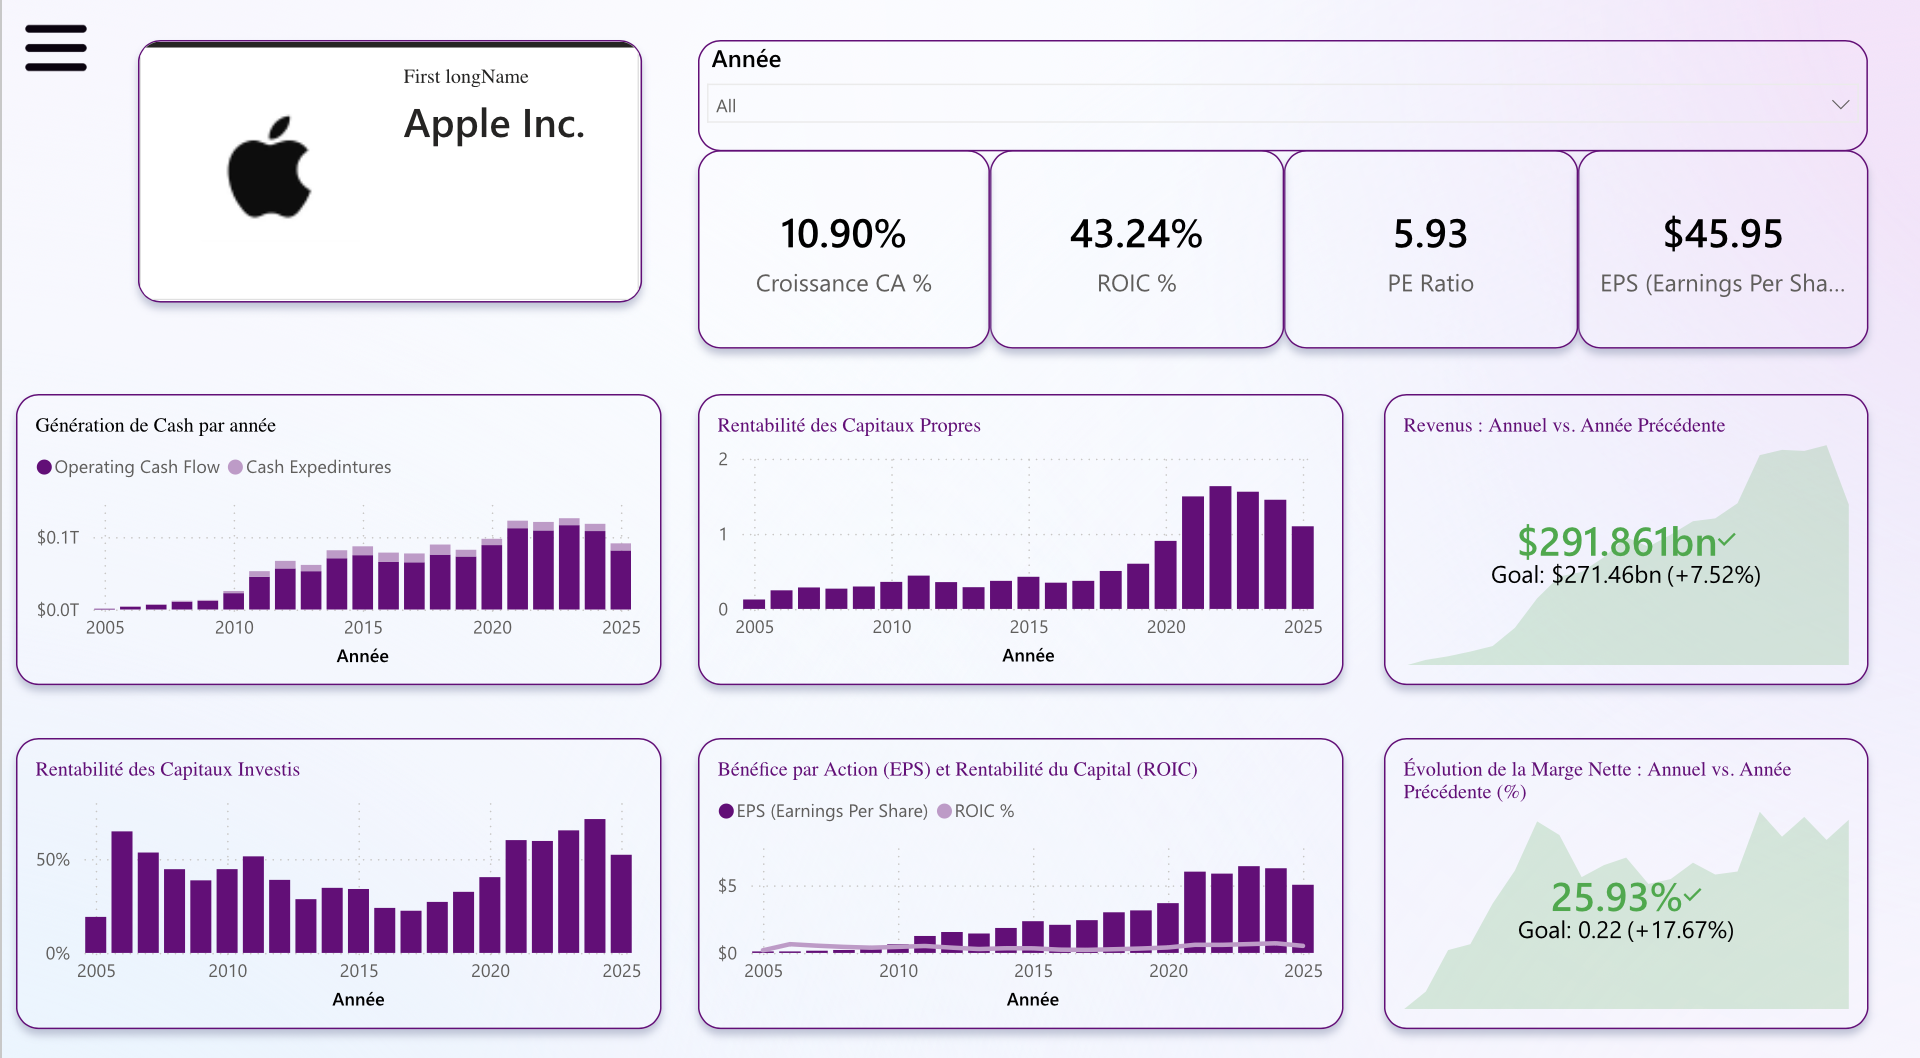

The page's visual inventory and layout, read from the dashboard file:
{"tool":"powerbi","page":{"name":"Overview","canvas":[1280,720],"ordinal":1},"visuals":[{"type":"card","fields":{"Values":["_Mesures.EPS (Earnings Per Share)"]},"box":[1047.3,103,193.1,132],"z":0},{"type":"card","fields":{"Values":["_Mesures.PE Ratio"]},"box":[852,103,195.3,132],"z":1000},{"type":"columnChart","title":"Rentabilité des Capitaux Propres","fields":{"Category":["Calendriers.Date.Variation.Hiérarchie de dates.Année","Calendriers.Date.Variation.Hiérarchie de dates.Trimestre"],"Y":["_Mesures.ROE"]},"box":[462.5,264,429.2,193.1],"z":2000},{"type":"columnChart","title":"Rentabilité des Capitaux Investis","fields":{"Category":["Calendriers.Date.Variation.Hiérarchie de dates.Année","Calendriers.Date.Variation.Hiérarchie de dates.Trimestre"],"Y":["_Mesures.ROIC %"]},"box":[9.7,493.6,429.2,193.1],"z":3000},{"type":"card","fields":{"Values":["_Mesures.ROIC %"]},"box":[656.7,103,195.3,132],"z":4000},{"type":"lineStackedColumnComboChart","title":"Bénéfice par Action (EPS) et Rentabilité du Capital (ROIC)","fields":{"Y":["_Mesures.EPS (Earnings Per Share)"],"Category":["Calendriers.Date.Variation.Hiérarchie de dates.Année"],"Y2":["_Mesures.ROIC %1"]},"box":[462.5,493.6,429.2,193.1],"z":5000},{"type":"kpi","title":"Revenus : Annuel vs. Année Précédente","fields":{"Goal":["_Mesures.CA Année Précédente"],"TrendLine":["LocalDateTable_a3a549f4-0699-475d-9998-67b944cf3438.Année"],"Indicator":["_Mesures.Total Revenue"]},"box":[918.5,264,321.9,193.1],"z":6000},{"type":"kpi","title":"Évolution de la Marge Nette : Annuel vs. Année Précédente (%)","fields":{"TrendLine":["LocalDateTable_a3a549f4-0699-475d-9998-67b944cf3438.Année"],"Indicator":["_Mesures.Marge Nette %"],"Goal":["_Mesures.Marge Nette Année Précédente"]},"box":[918.5,493.6,321.9,193.1],"z":7000},{"type":"card","fields":{"Values":["_Mesures.Croissance CA %"]},"box":[462.5,103,194.2,132],"z":8000},{"type":"slicer","fields":{"Values":["Calendriers.Date.Variation.Hiérarchie de dates.Année","Calendriers.Date.Variation.Hiérarchie de dates.Mois","Calendriers.Date.Variation.Hiérarchie de dates.Jour"]},"box":[462.6,29.3,777.6,73.8],"z":9000},{"type":"columnChart","title":"Génération de Cash par année","fields":{"Category":["Calendriers.Date.Variation.Hiérarchie de dates.Année","Calendriers.Date.Variation.Hiérarchie de dates.Trimestre"],"Y":["_Mesures.CashOps","_Mesures.Capex"]},"box":[9.9,263.9,428.9,193.5],"z":11000},{"type":"cardVisual","fields":{"Data":["Min(Dim_Company.longName)"]},"box":[90.2,29.1,334.9,174.3],"z":12000},{"type":"actionButton","title":"Open","box":[1.5,0,68.8,68.8],"z":14000}]}

Visuals, with their boxes in screenshot pixels (x1, y1, x2, y2), scaled from the page's 1280x720 canvas onto the 1920x1058 screenshot:
card - _Mesures.EPS (Earnings Per Share): (1571, 151, 1861, 345)
card - _Mesures.PE Ratio: (1278, 151, 1571, 345)
"Rentabilité des Capitaux Propres" columnChart: (694, 388, 1338, 672)
"Rentabilité des Capitaux Investis" columnChart: (15, 725, 658, 1009)
card - _Mesures.ROIC %: (985, 151, 1278, 345)
"Bénéfice par Action (EPS) et Rentabilité du Capital (ROIC)" lineStackedColumnComboChart: (694, 725, 1338, 1009)
"Revenus : Annuel vs. Année Précédente" kpi: (1378, 388, 1861, 672)
"Évolution de la Marge Nette : Annuel vs. Année Précédente (%)" kpi: (1378, 725, 1861, 1009)
card - _Mesures.Croissance CA %: (694, 151, 985, 345)
slicer - Calendriers.Date.Variation.Hiérarchie de dates.Année x Calendriers.Date.Variation.Hiérarchie de dates.Mois: (694, 43, 1860, 151)
"Génération de Cash par année" columnChart: (15, 388, 658, 672)
cardVisual - Min(Dim_Company.longName): (135, 43, 638, 299)
"Open" actionButton: (2, 0, 105, 101)
